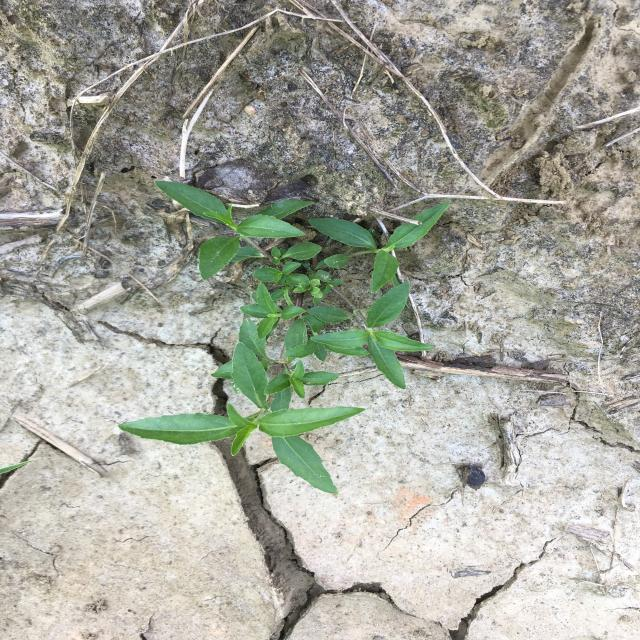Eclipta: (117, 180, 451, 495)
